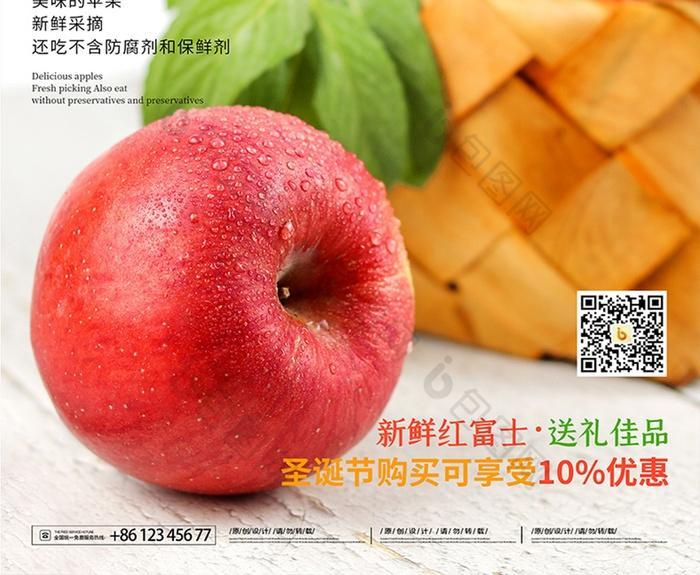apple: (30, 107, 411, 500)
